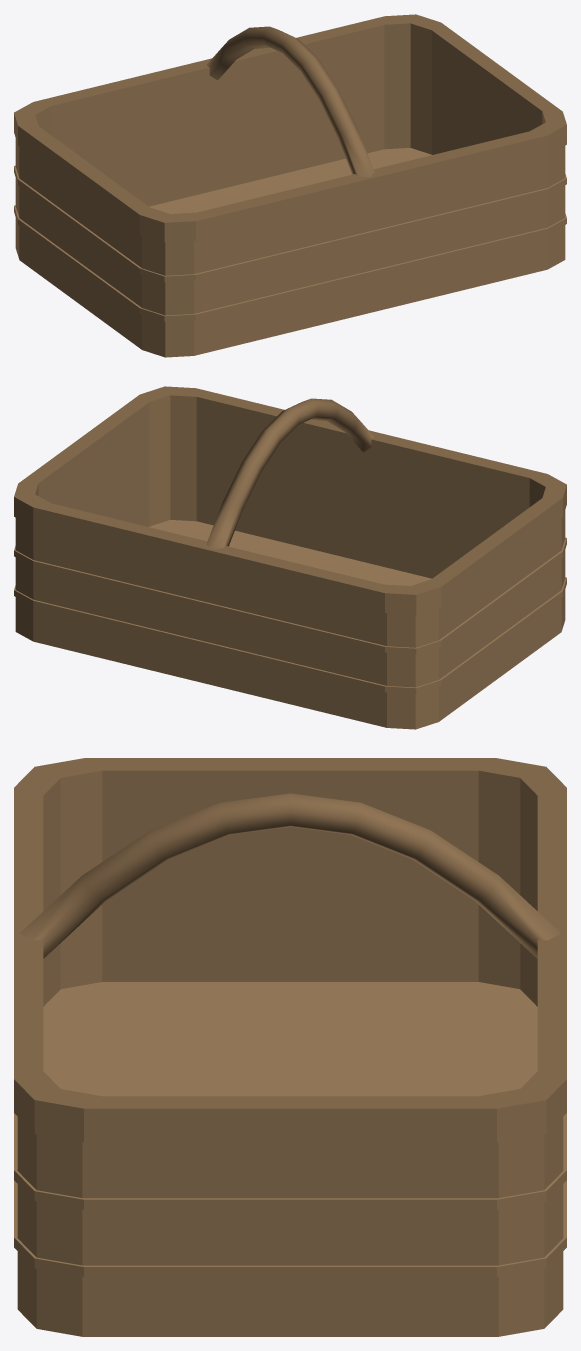
The model's file is picnic_basket.glb.
3 renders of one model, top to bottom at view 1: azimuth 30°, elevation 25°; view 2: azimuth 150°, elevation 25°; view 3: azimuth 270°, elevation 25°, orthographic. The views are drawn at different scales.
Parts seen in each view (by area): view 1: picnic_basket; view 2: picnic_basket; view 3: picnic_basket.
Boxes of the visible parts, x1,y1,x2,y2 form: picnic_basket: (14,14,566,357); picnic_basket: (14,386,566,729); picnic_basket: (14,758,566,1336).
Size of the model in its own units: 0.45 by 0.2213 by 0.3.
